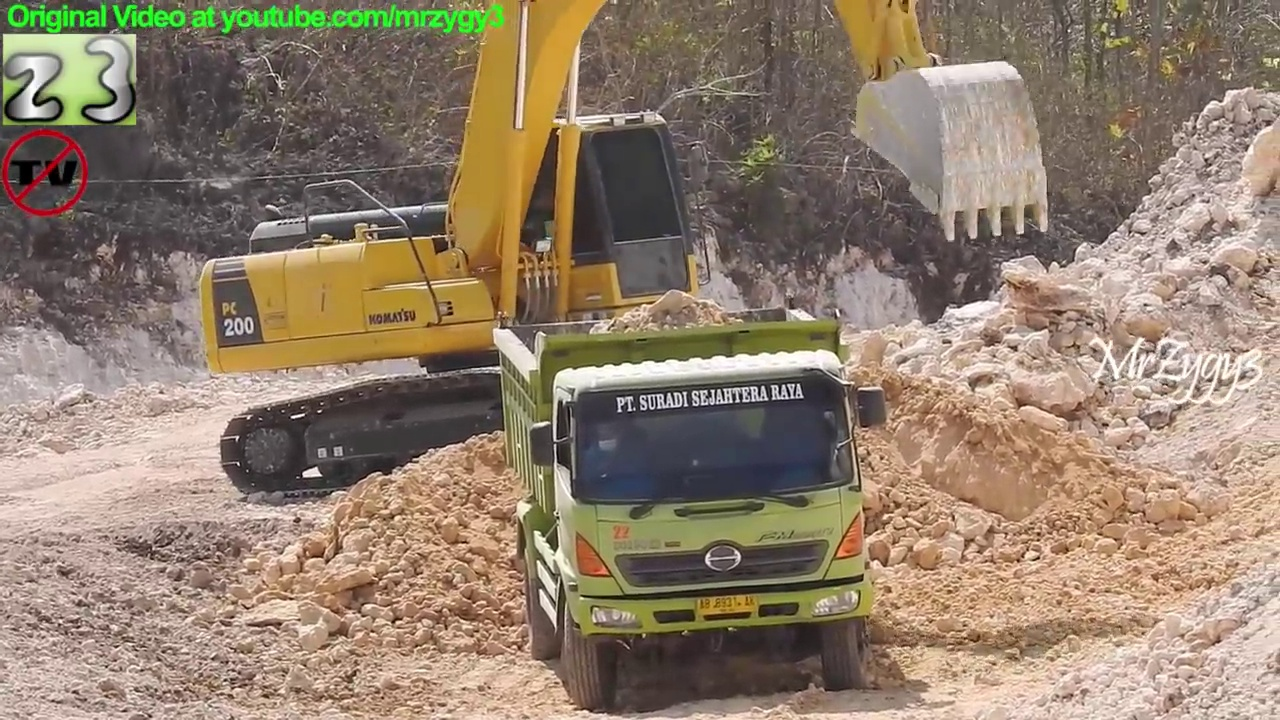excavator: (190, 1, 1062, 512)
truck: (489, 295, 895, 713)
